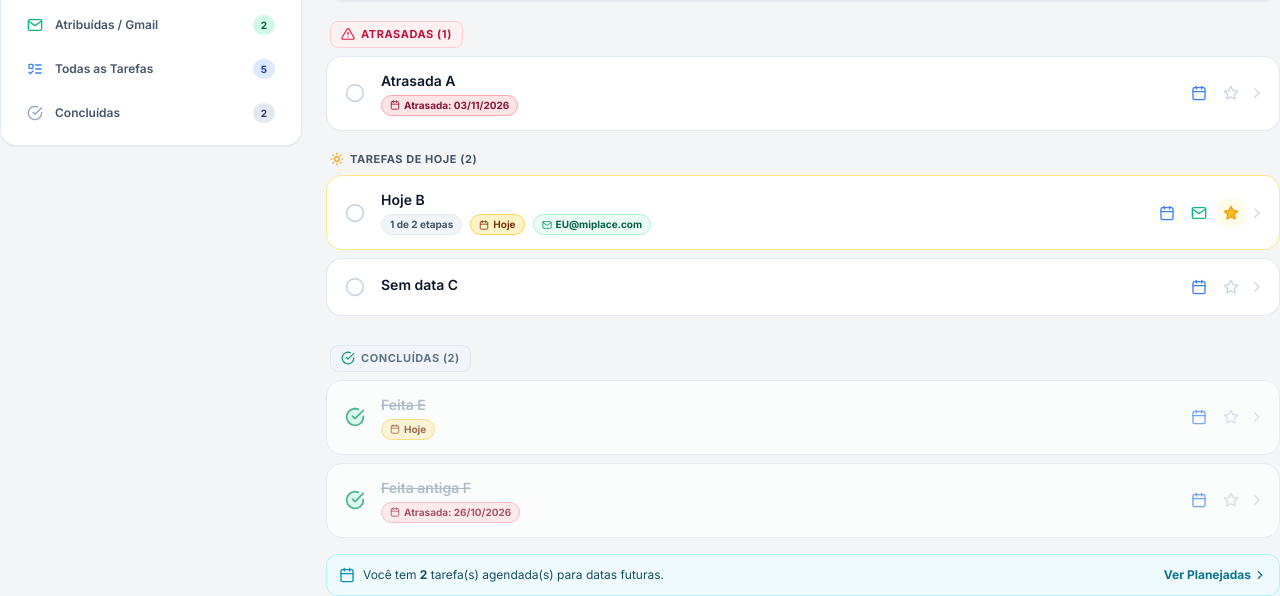
TodoManager — "Meu Dia" (padrão) › avisa das tarefas futuras e o botão leva para Planejadas
This screenshot has width=1280, height=596.
(page scrolled)
Check: the text "Você tem 2 tarefa(s) agendada(s) para datas futuras." is shown, box [363,566,664,582]
Click the button "Ver Planejadas": point(1215, 574) [1164,566,1267,582]
(page scrolled)
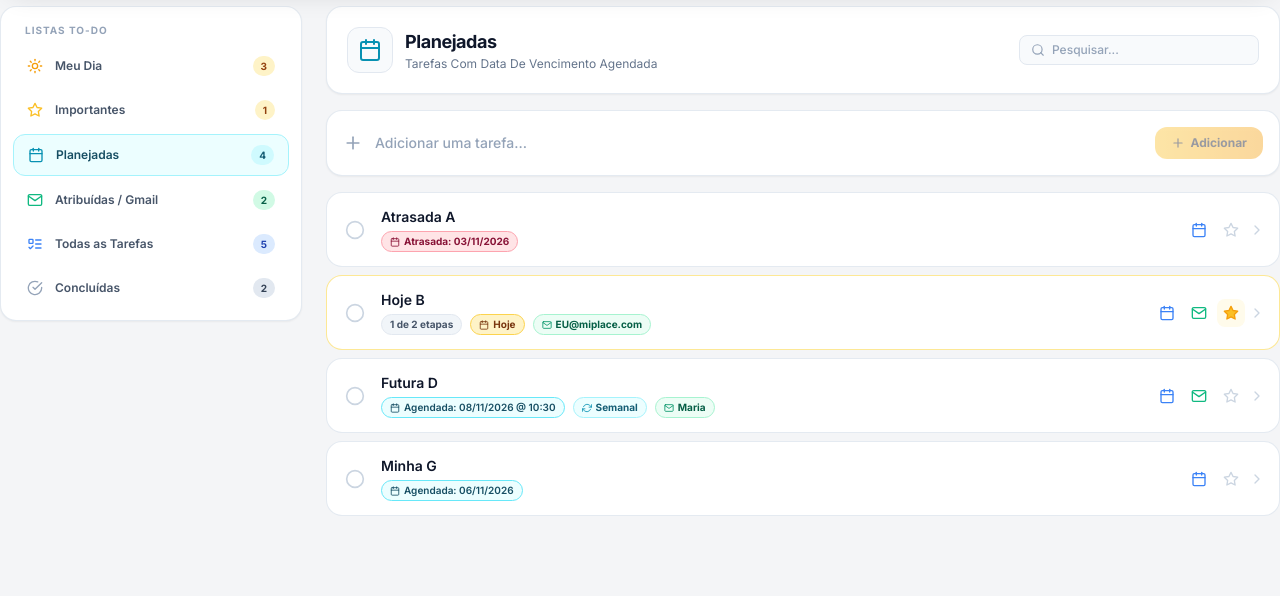
Check: the text "Futura D" is shown, box [381,374,438,391]
Check: the text "Minha G" is shown, box [381,457,437,474]
Check: the text "Sem data C" is gone
